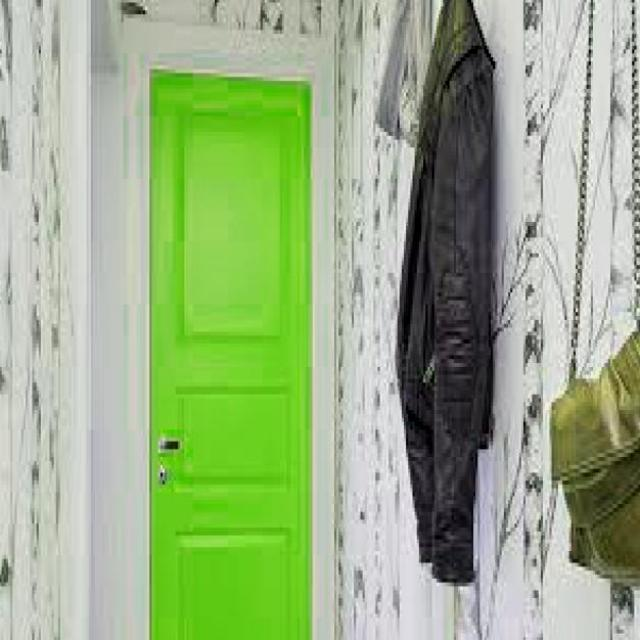door: (147, 67, 313, 638)
